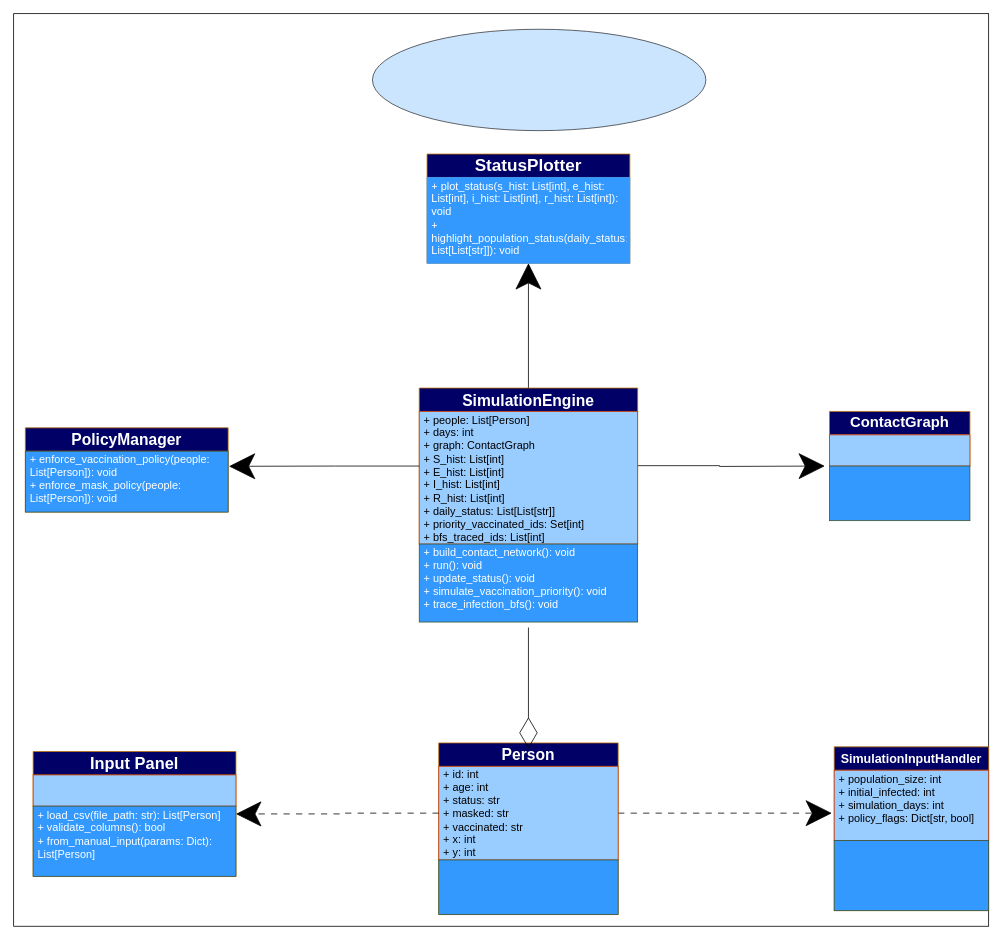
Image size: 1002x940. Some labels were removed from this diagram. Each missing label, with the centre of its shape:
"+ add_edge(src: int, dest: int): void + get_neighbors(node: int): List[int]" belongs at point (899, 493).
"+ expose(): void + infect(): void + recover(): void + vaccinate(): void" belongs at point (528, 887).
"+ file_path: str + data: DataFrame" belongs at point (134, 790).
"+ from_manual_input(params: Dict): List[Person]" belongs at point (911, 875).
"+ graph: Dict[int, List[int]]" belongs at point (899, 450).
"Epidemic Simulator" belongs at point (539, 79).
